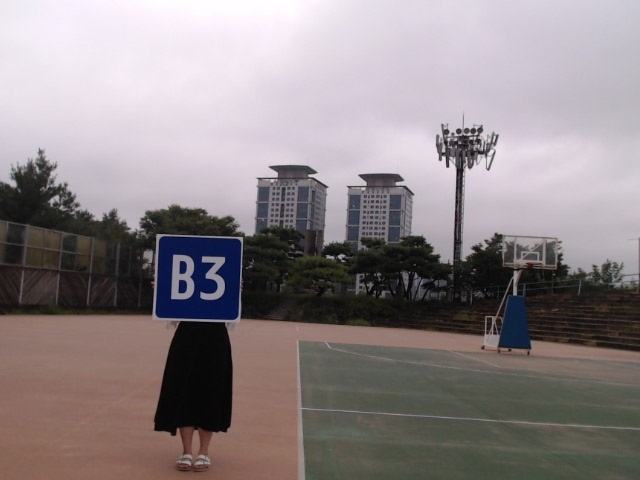delivery_b3: (155, 235, 242, 322)
